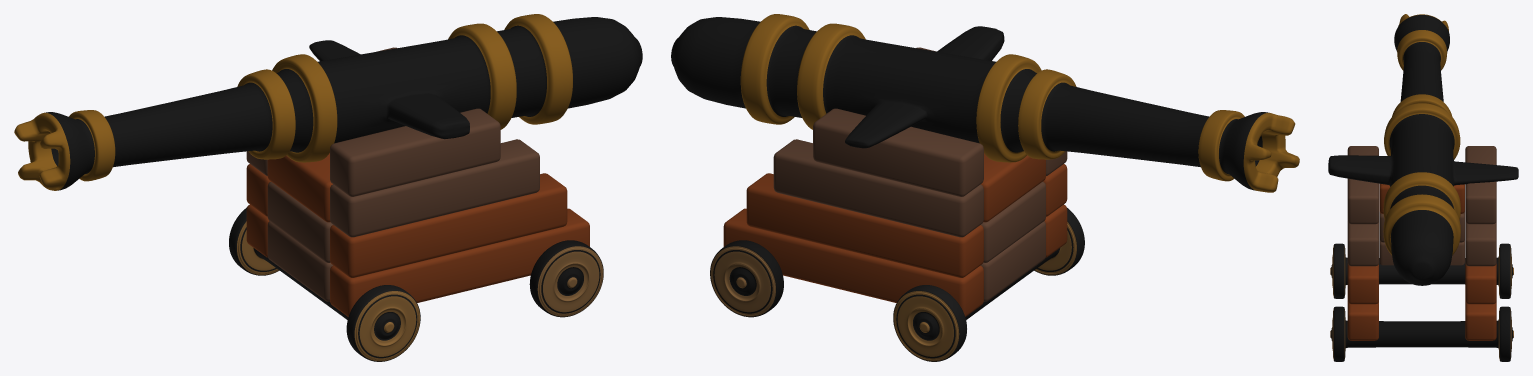
The model's file is UpgradedCannon2.fbx.
3 views of the same model, side by side, from view 1: azimuth 30°, elevation 25°; view 2: azimuth 150°, elevation 25°; view 3: azimuth 270°, elevation 25° (orthographic). The views are drawn at different scales.
Parts seen in each view (by area): view 1: Cylinder.003, Cube, Cylinder.001, Cylinder.002; view 2: Cylinder.003, Cube, Cylinder.001, Cylinder.002; view 3: Cylinder.003, Cube, Cylinder.002, Cylinder.001.
Part boxes in pixels (<box>): Cylinder.003: <box>14,14,642,190</box>; Cube: <box>246,47,589,316</box>; Cylinder.001: <box>229,207,420,361</box>; Cylinder.002: <box>529,240,603,317</box>; Cylinder.003: <box>671,14,1299,192</box>; Cube: <box>723,47,1067,316</box>; Cylinder.001: <box>893,208,1084,361</box>; Cylinder.002: <box>710,240,783,317</box>; Cylinder.003: <box>1328,14,1518,285</box>; Cube: <box>1347,146,1496,340</box>; Cylinder.002: <box>1330,306,1513,361</box>; Cylinder.001: <box>1330,243,1513,298</box>.
Size of the model in its own units: 629 by 264 by 242.
